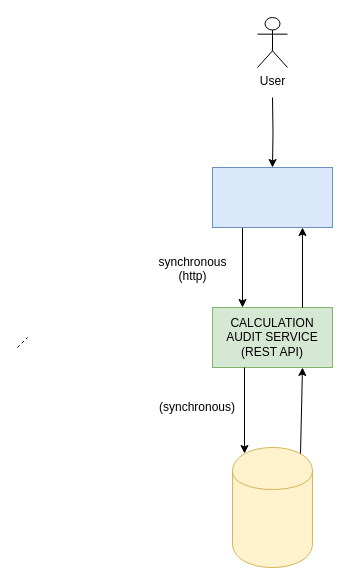
Image size: 350x585. Some labels were removed from this diagram. The centre of each missing label's shape, as x and y in pixels:
CLIENT (Desktop/Mobile): the point at 272,197
DATASTORE (Config Repo): the point at 272,507
